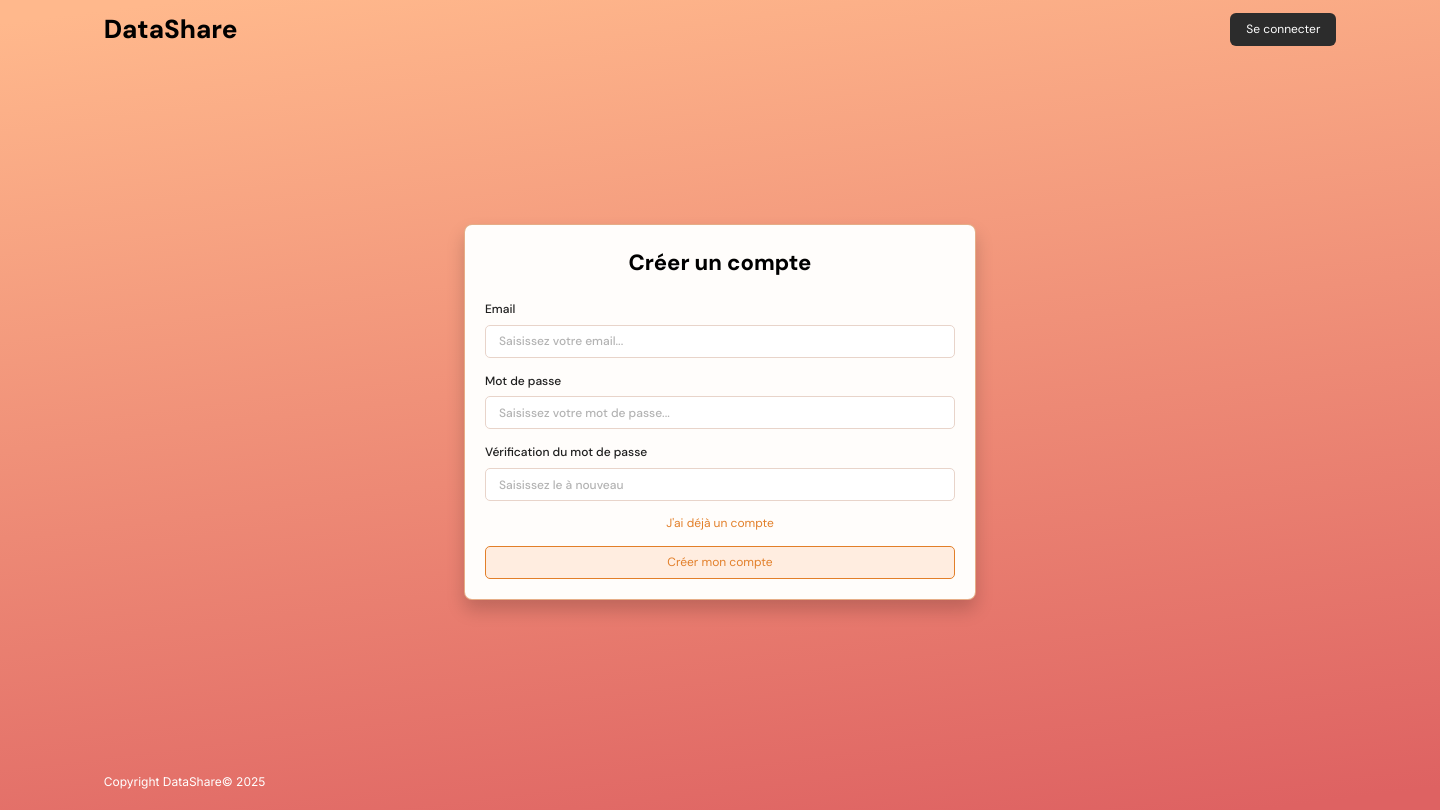
Test: Authentication › registers a user and redirects to the login page
Step 1. Type "john.doe@example.com" into the field labelled "Email" → (720, 341), box [485, 325, 955, 358]
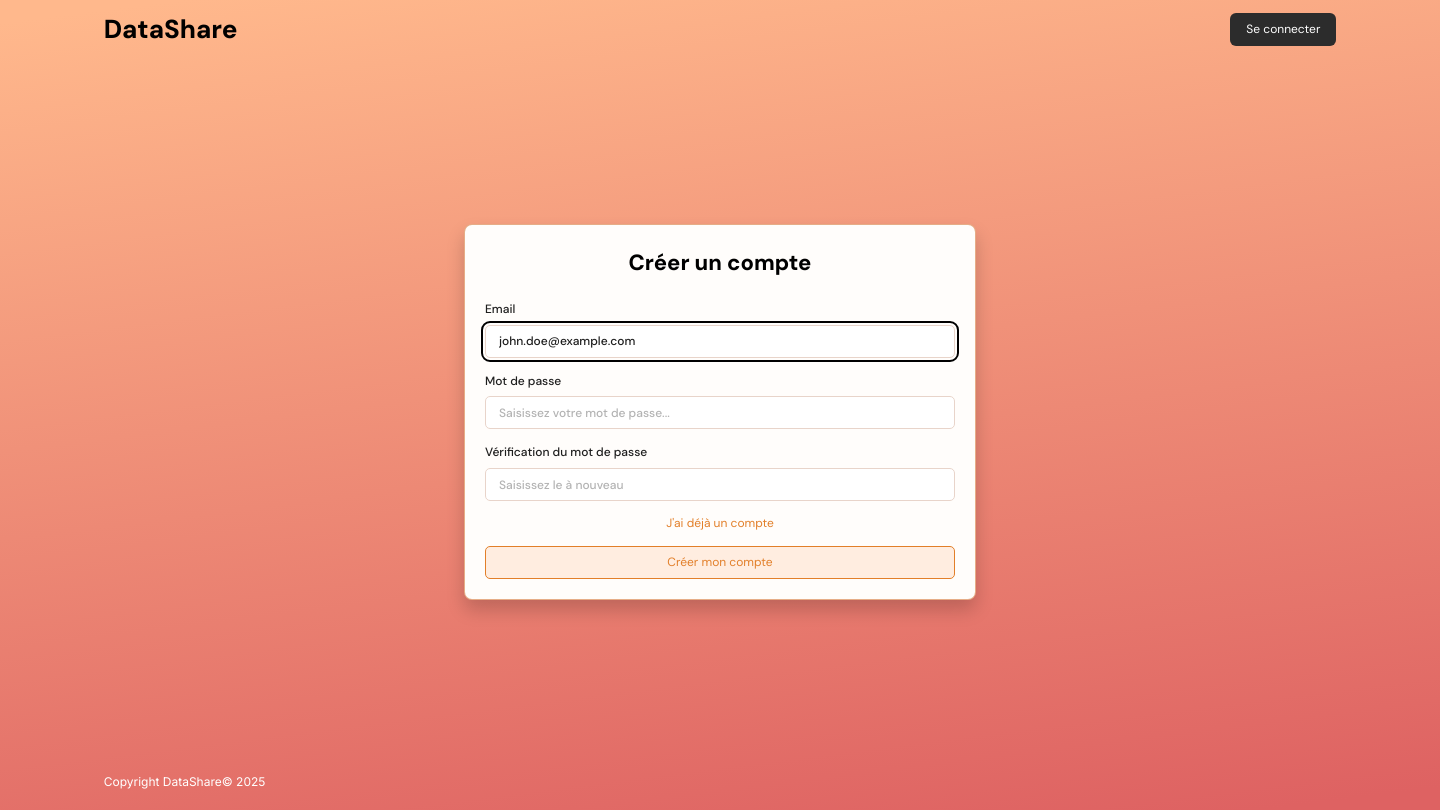
Step 2. Type "password" into the password field labelled "Mot de passe" → (720, 413), box [485, 396, 955, 429]
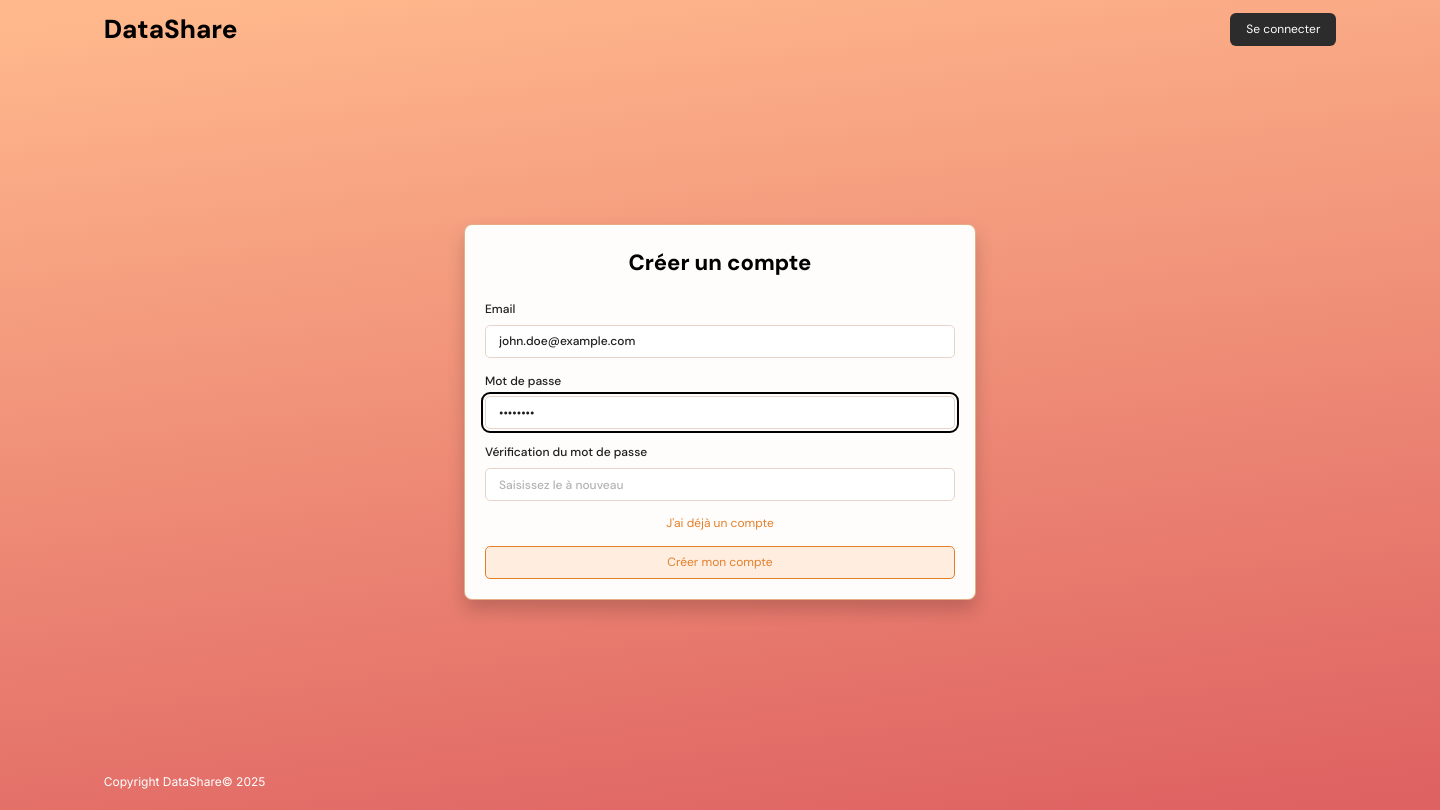
Step 3. Type "password" into the password field labelled "Vérification du mot de passe" → (720, 485), box [485, 468, 955, 501]
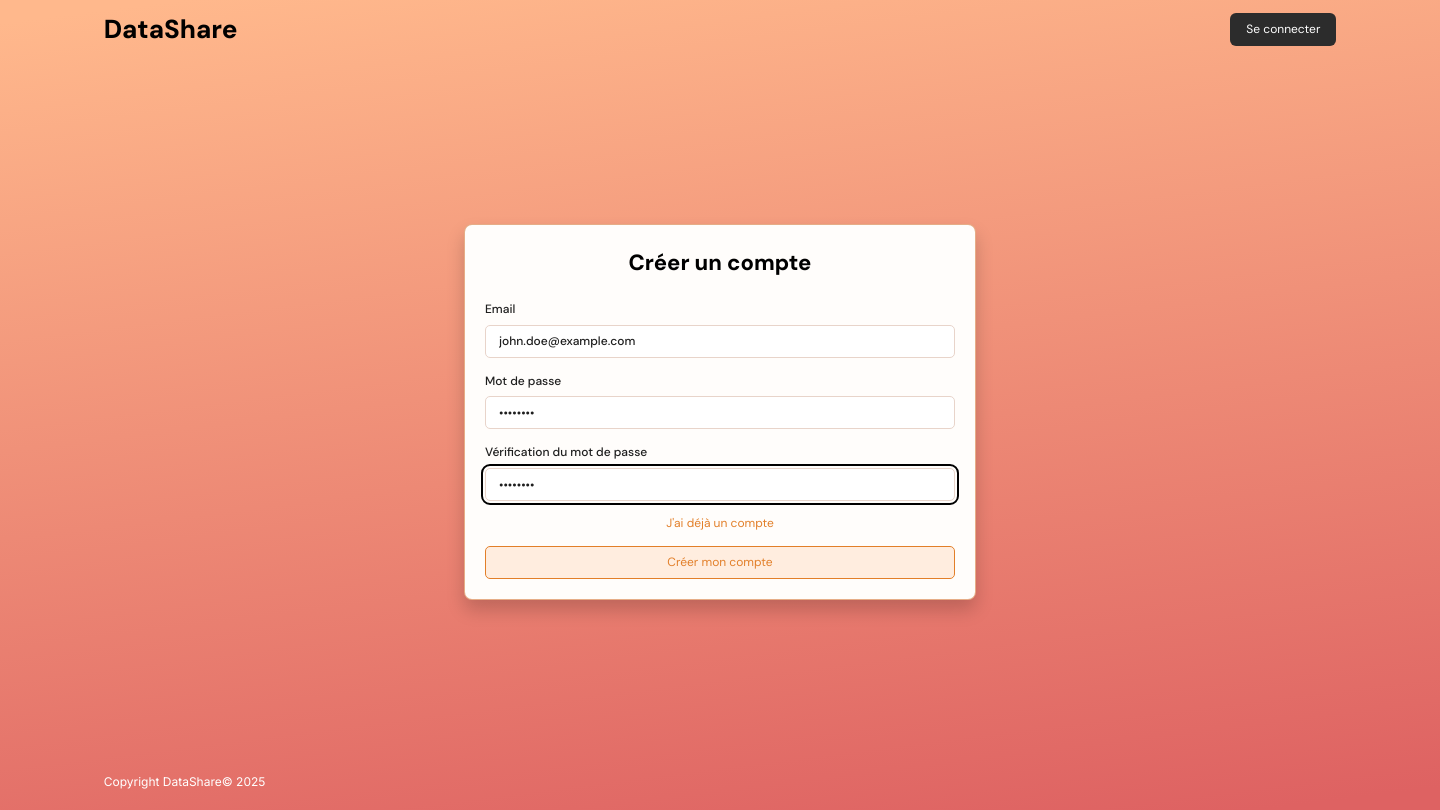
Step 4. Click the button "Créer mon compte" → (720, 562), box [485, 546, 955, 579]
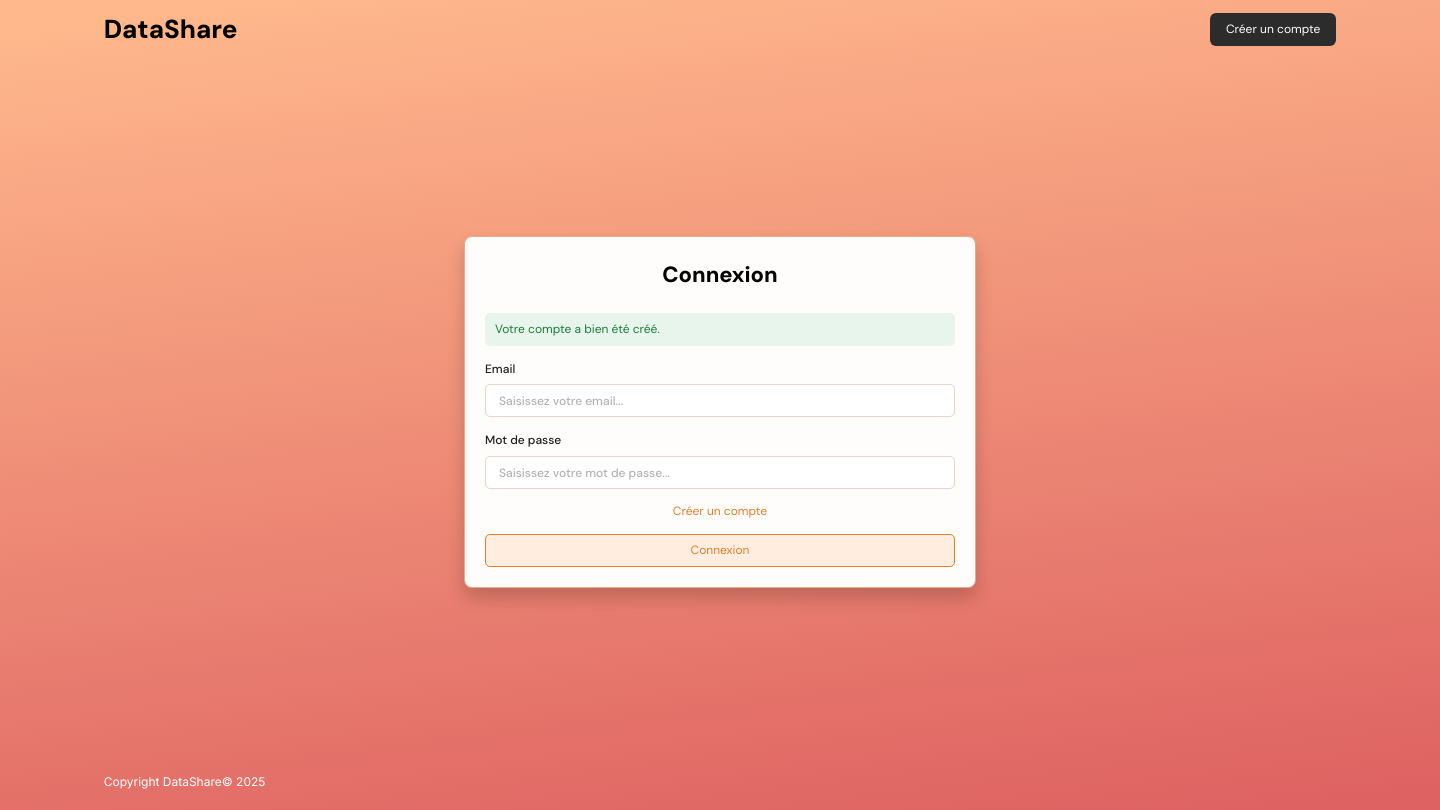
Check: the text "Votre compte a bien été créé." is shown, box [485, 313, 955, 346]
